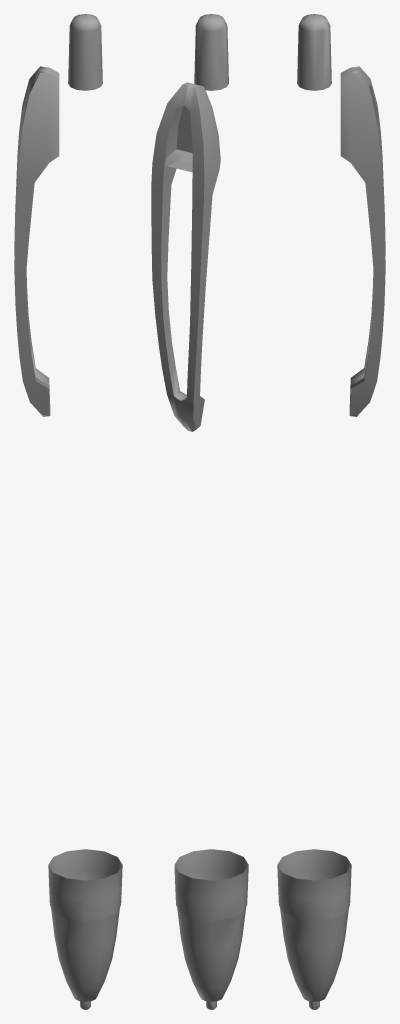
File: MeshRobothorPenSigno_0_GeomSubset_0.obj
3 views of the same model, side by side, from view 1: azimuth 90°, elevation 25°; view 2: azimuth 150°, elevation 25°; view 3: azimuth 270°, elevation 25° (orthographic).
Parts seen in each view (by area): view 1: MeshRobothorPenSigno_0_GeomSubset_0; view 2: MeshRobothorPenSigno_0_GeomSubset_0; view 3: MeshRobothorPenSigno_0_GeomSubset_0.
Boxes of the visible parts, left/top/right/bottom form: MeshRobothorPenSigno_0_GeomSubset_0: left=14, top=14, right=122, bottom=1009; MeshRobothorPenSigno_0_GeomSubset_0: left=151, top=14, right=248, bottom=1009; MeshRobothorPenSigno_0_GeomSubset_0: left=277, top=14, right=385, bottom=1009.
Bounding box in the file's own units: 0.00949 × 0.1397 × 0.0138.
1 material, 1 textured.
